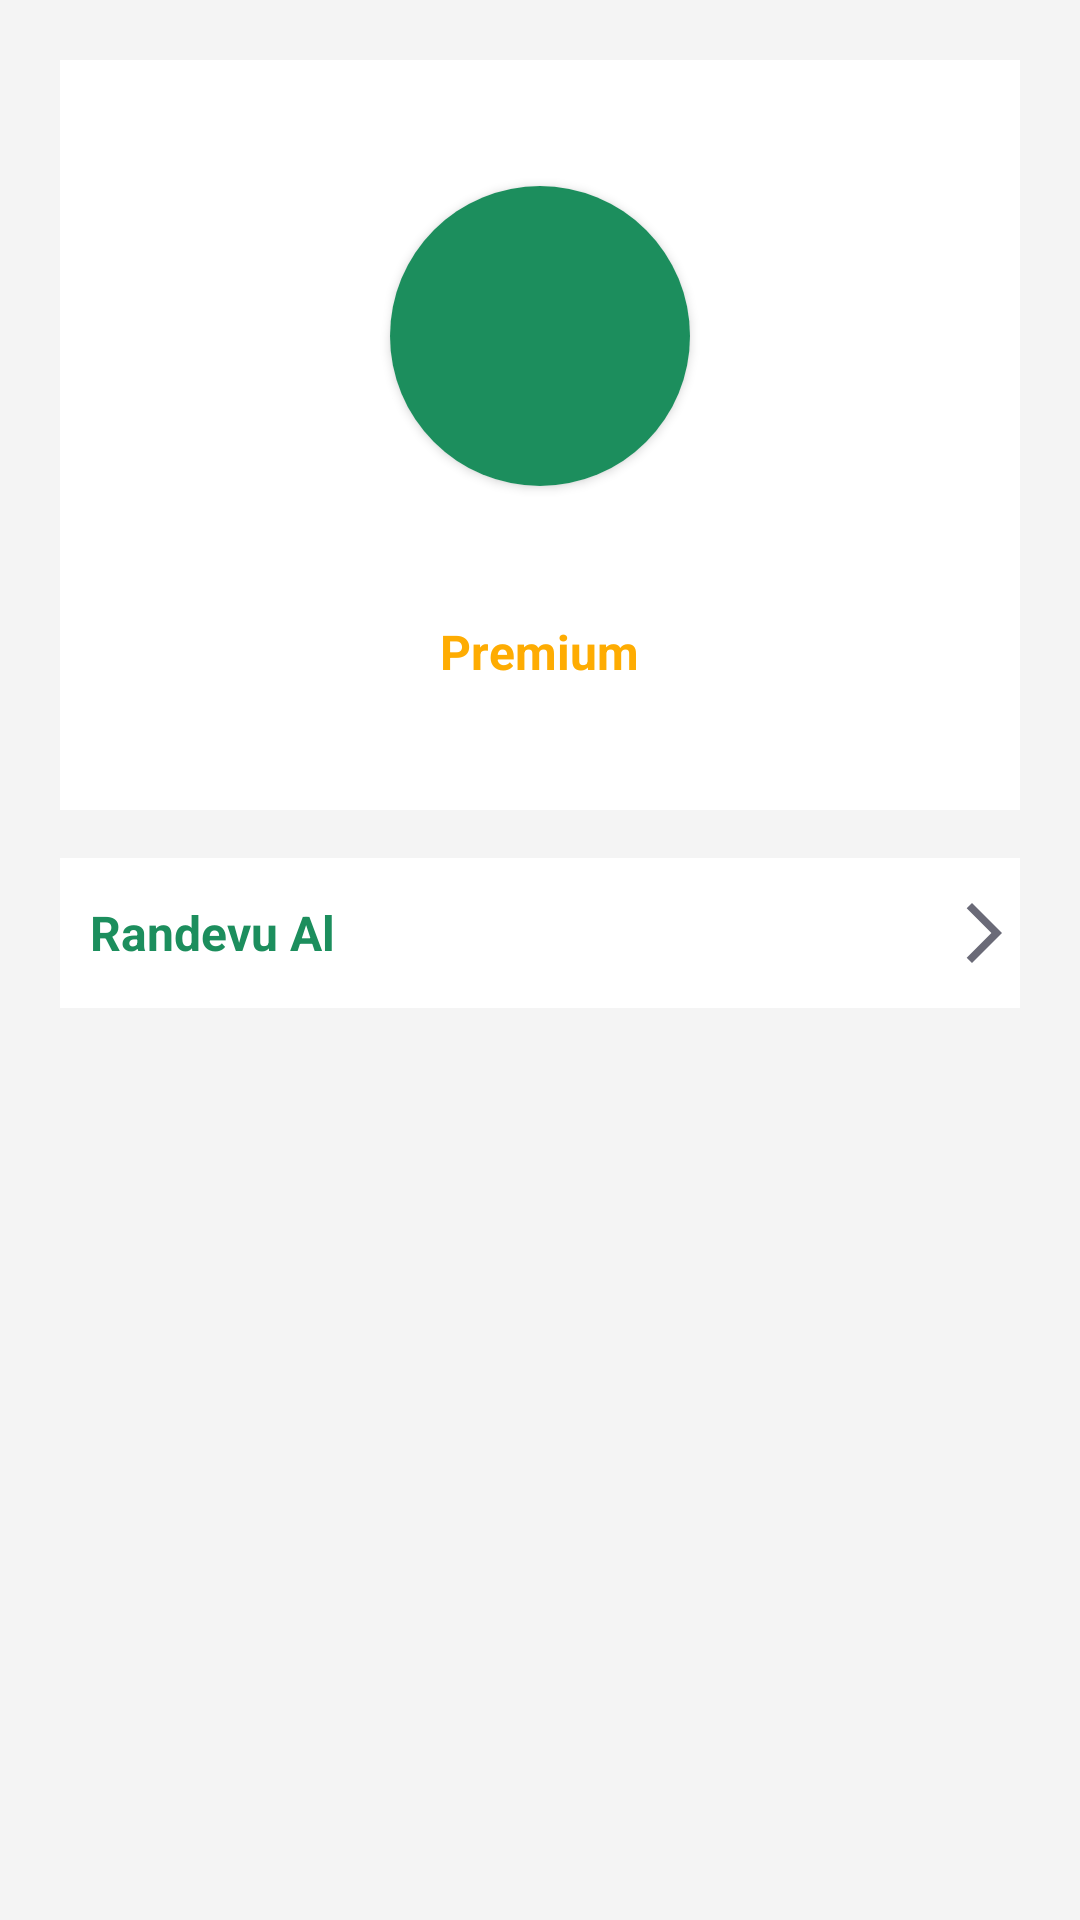

Where icons sit on this 1080px×1920px app screen, as {"x1": x1, "y1": y1, "x2": x2, "y2": y2}:
arrow: {"x1": 967, "y1": 903, "x2": 1002, "y2": 963}
